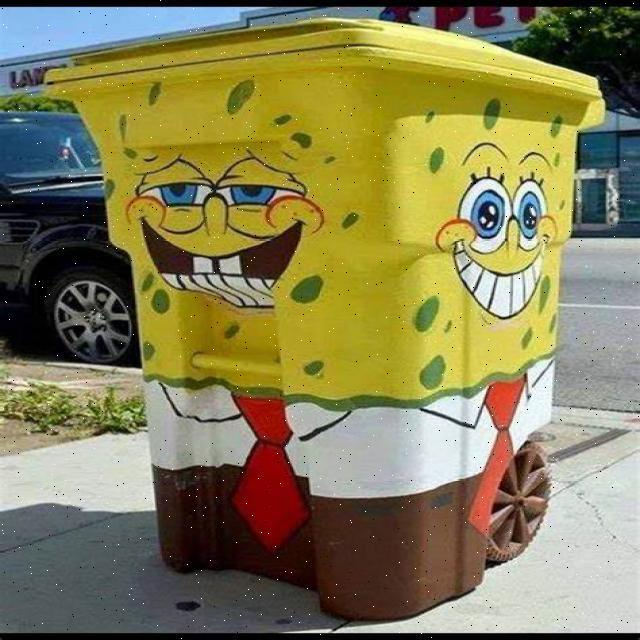garbage container: (21, 27, 627, 621)
